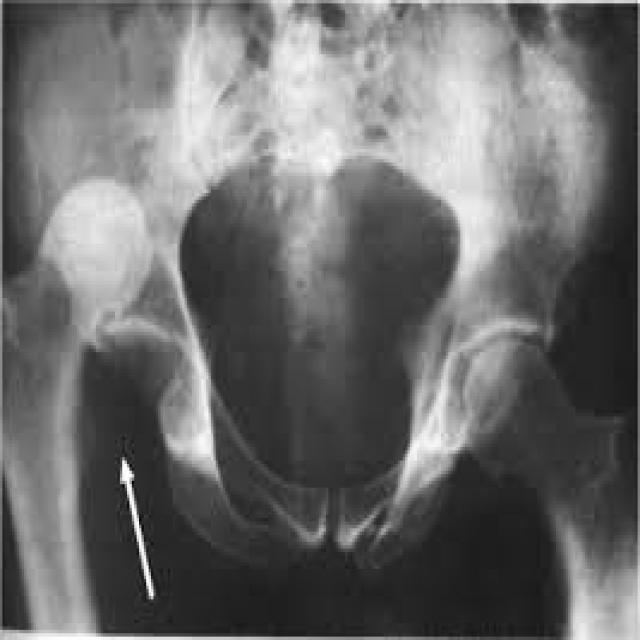normal-left: (460, 337, 640, 640)
right-dislocation: (1, 176, 154, 633)
